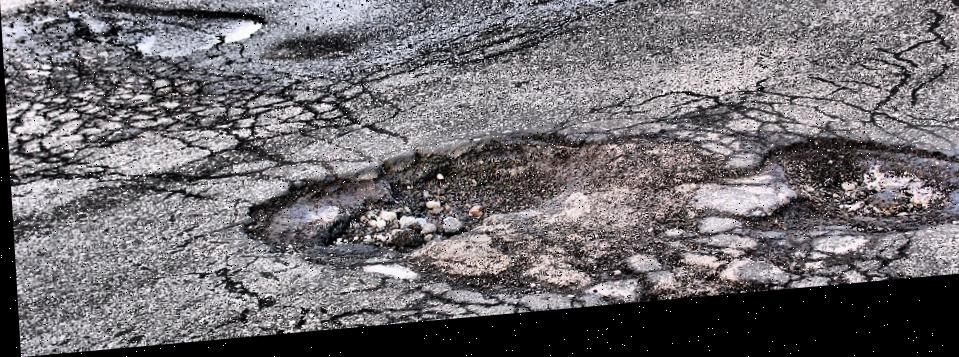pothole: (220, 125, 714, 295), (739, 134, 959, 265), (65, 0, 266, 73)
